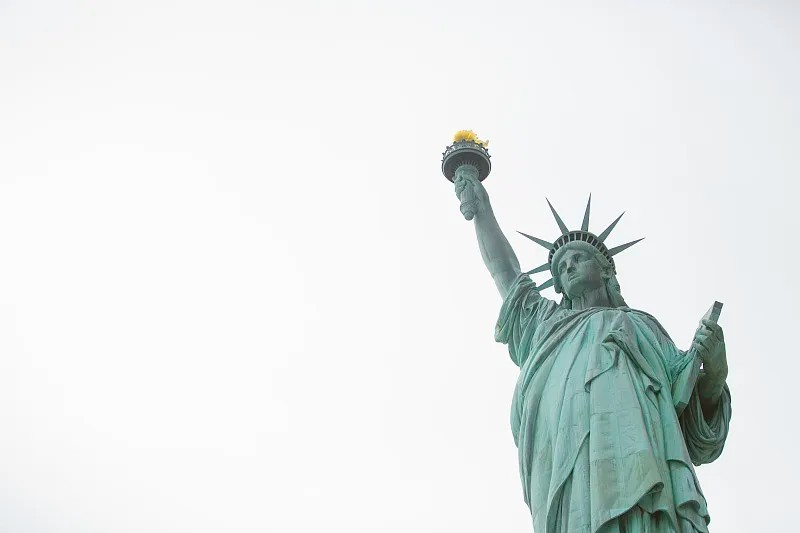SL: (441, 129, 733, 533)
